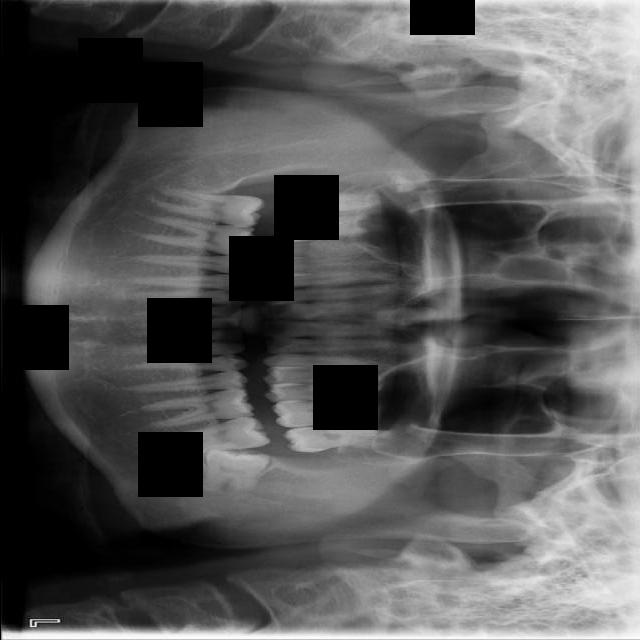73: (55, 599, 60, 605)
BioHorizons Implant: (284, 426, 406, 453)
Biomet 3i Implant: (201, 445, 270, 499)
Blue Sky Bio Implant: (151, 413, 271, 464)
Caries: (276, 191, 405, 215)
Implant: (148, 178, 267, 231)
